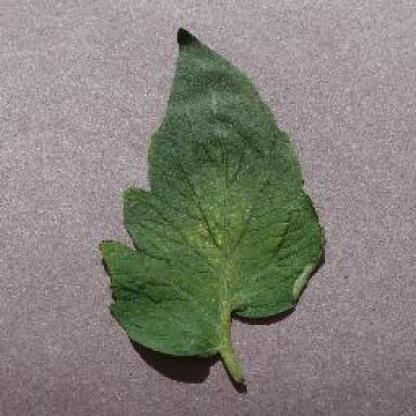Tomato_Spider_Mites: (102, 29, 325, 351)
